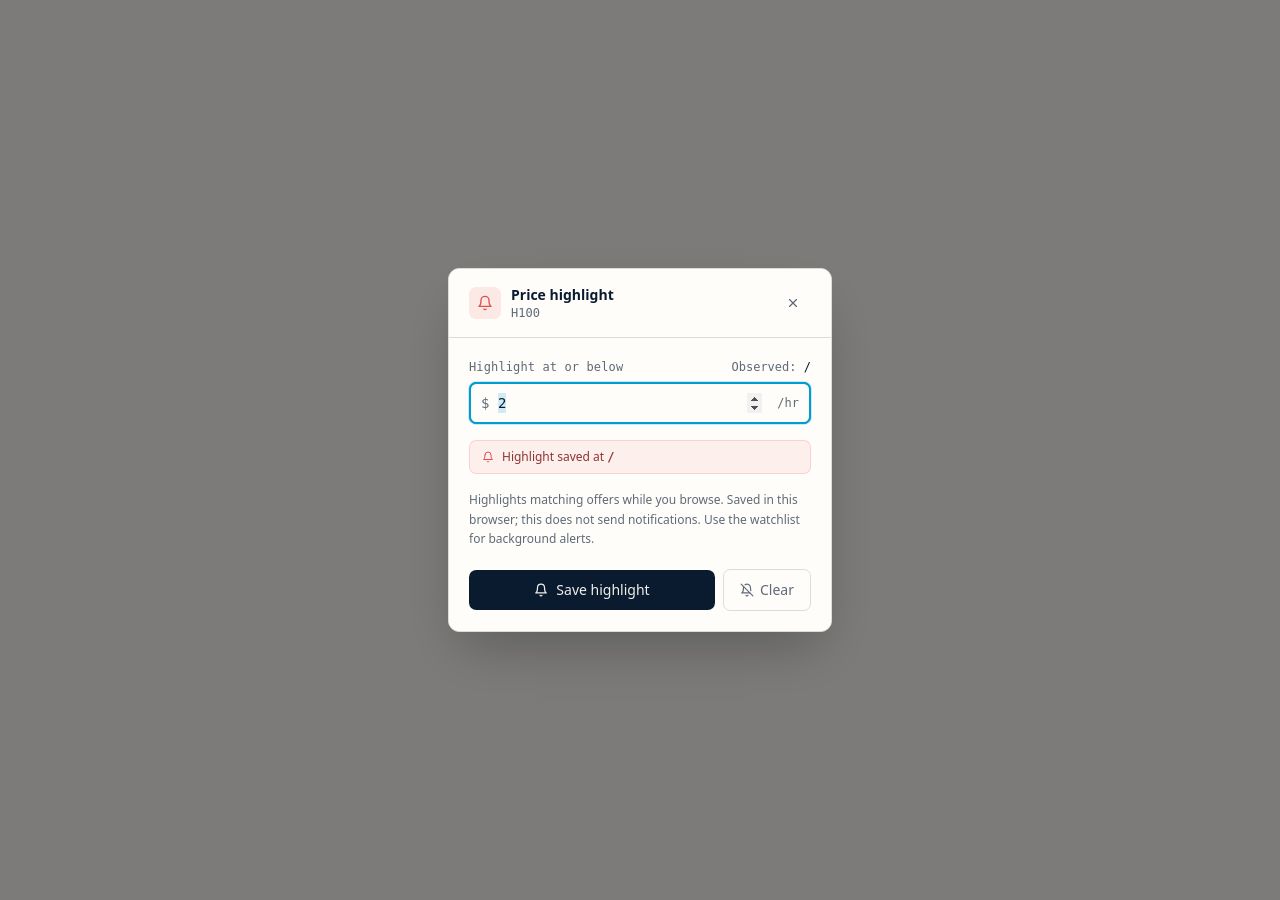
Test: keeps a failed clear operation visible and associates the highlight field with its label
Check: the label "Highlight at or below" is shown, box top-left (469, 358), bottom-right (623, 376)
Click the button "Save highlight": [592, 590] box top-left (469, 570), bottom-right (715, 610)
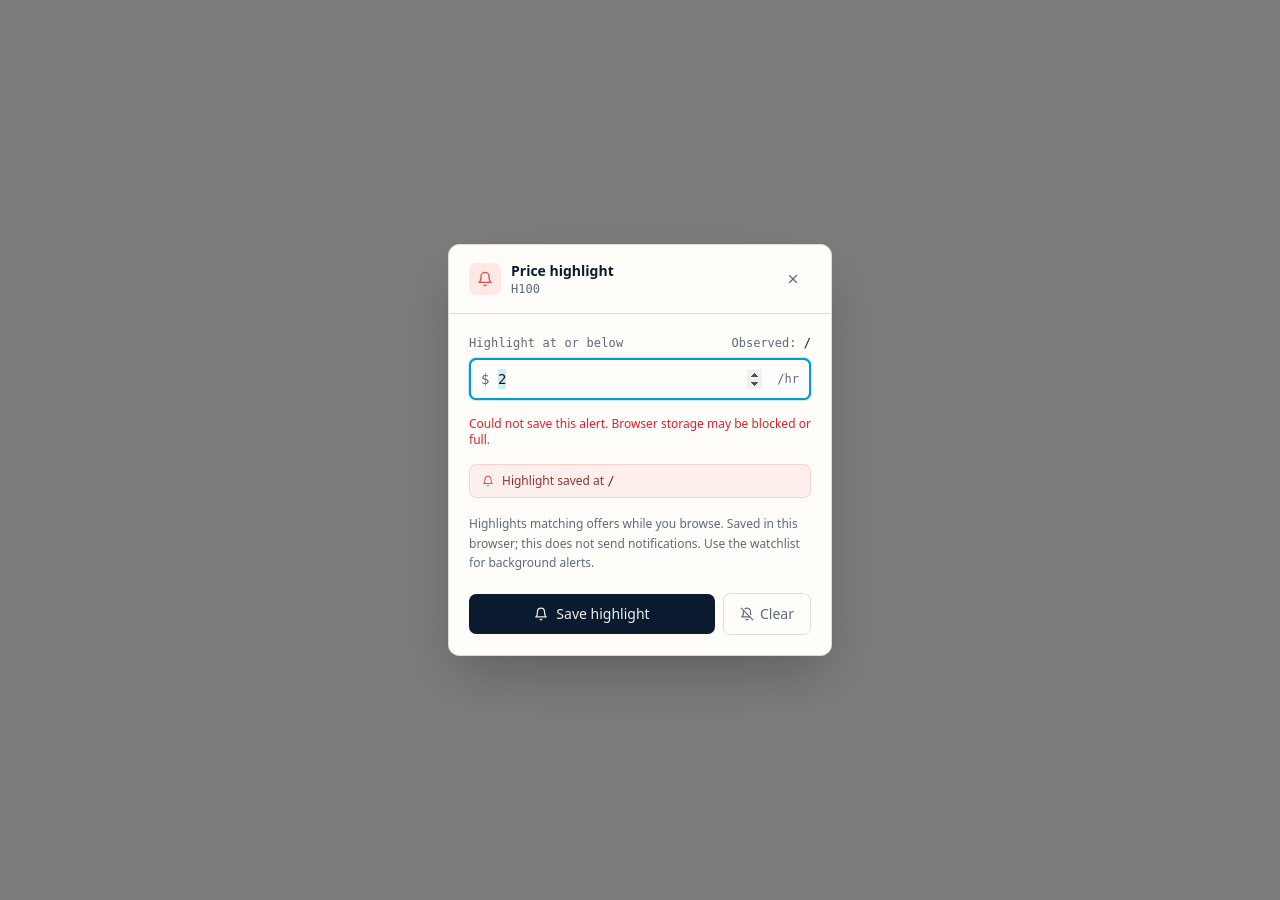
Check: the number of messages is 1, box top-left (469, 416), bottom-right (811, 448)
Click the button "Clear": [767, 614] box top-left (723, 593), bottom-right (811, 635)
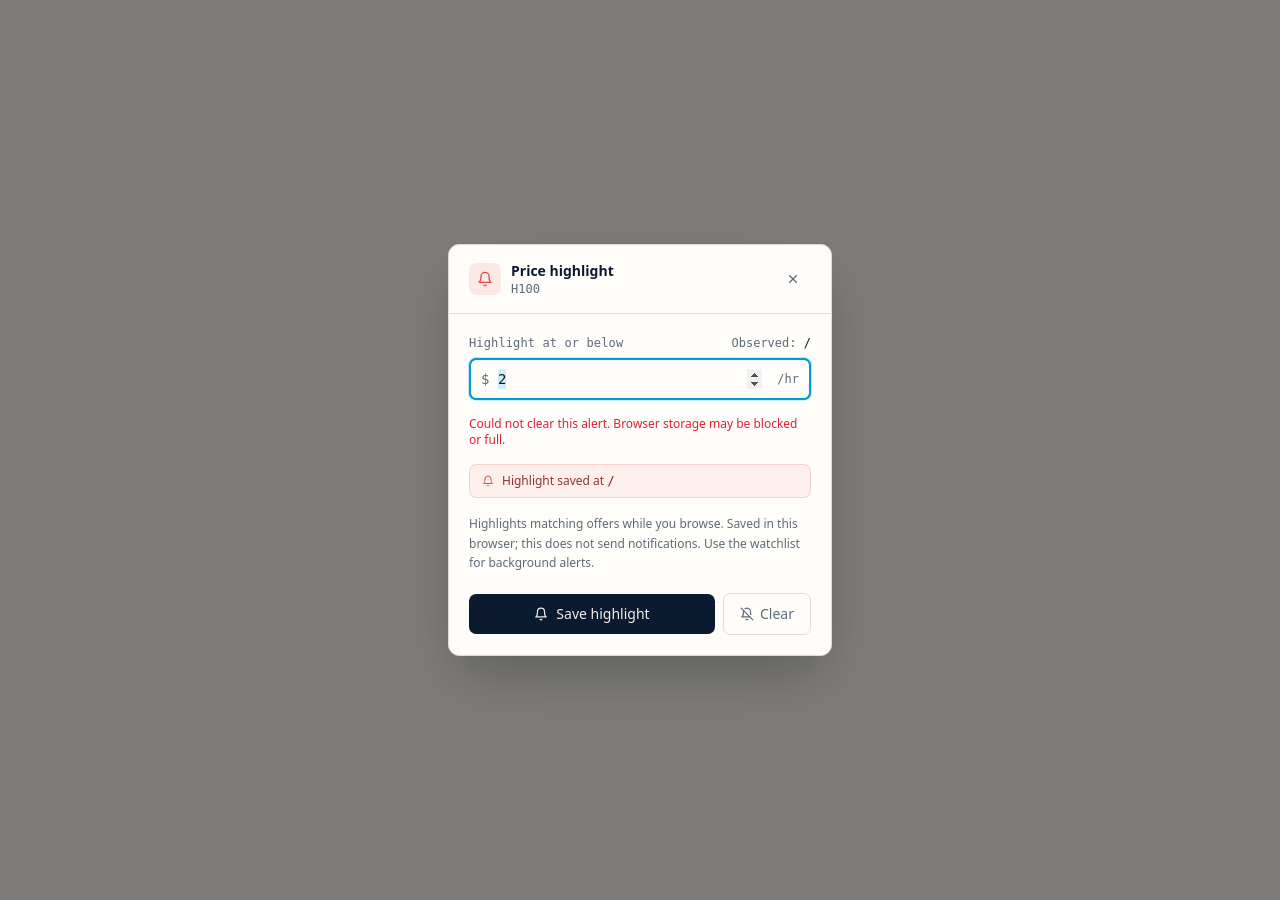
Check: the message "Could not clear this alert. Browser storage may be blocked or full." is shown, box top-left (469, 416), bottom-right (811, 448)
